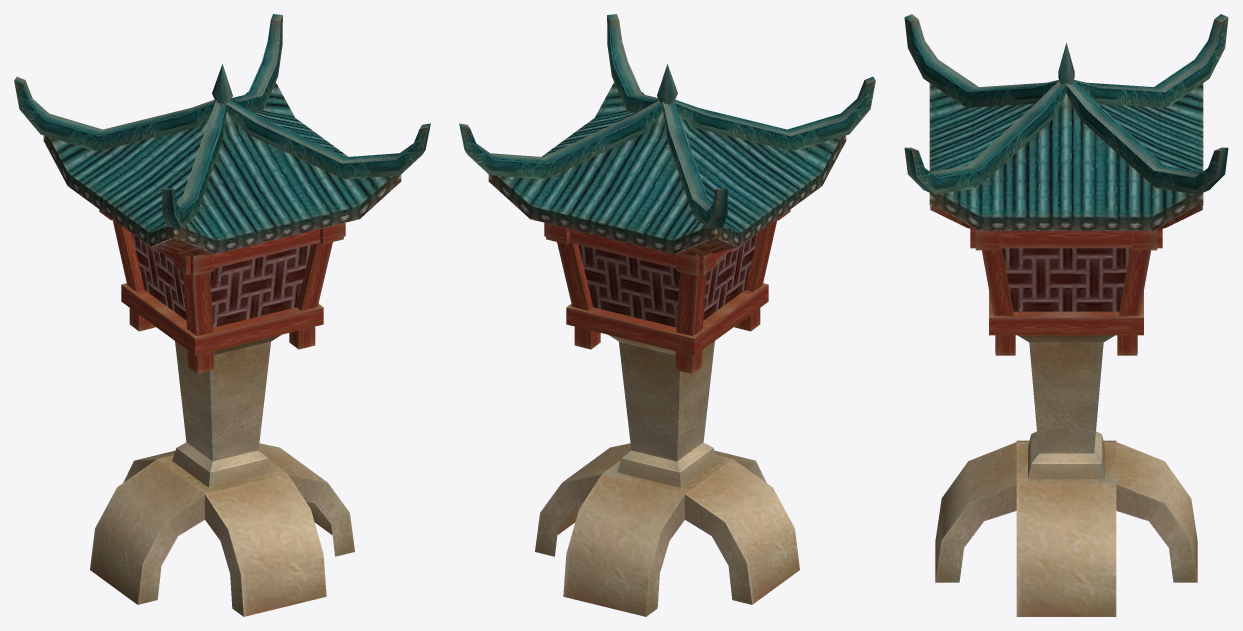
File: environment_common_shideng_004_a.FBX
3 views of the same model, side by side, from view 1: azimuth 30°, elevation 25°; view 2: azimuth 150°, elevation 25°; view 3: azimuth 270°, elevation 25° (orthographic). The views are drawn at different scales.
Visible parts, largest first — view 1: environment_common_shideng_004_a; view 2: environment_common_shideng_004_a; view 3: environment_common_shideng_004_a.
Boxes of the visible parts, x1,y1,x2,y2 form: environment_common_shideng_004_a: (14,14,430,616); environment_common_shideng_004_a: (459,14,875,616); environment_common_shideng_004_a: (904,14,1228,616).
Bounding box in the file's own units: 38.94 × 68.84 × 38.94.
Materials: 1 (1 with a texture image).
